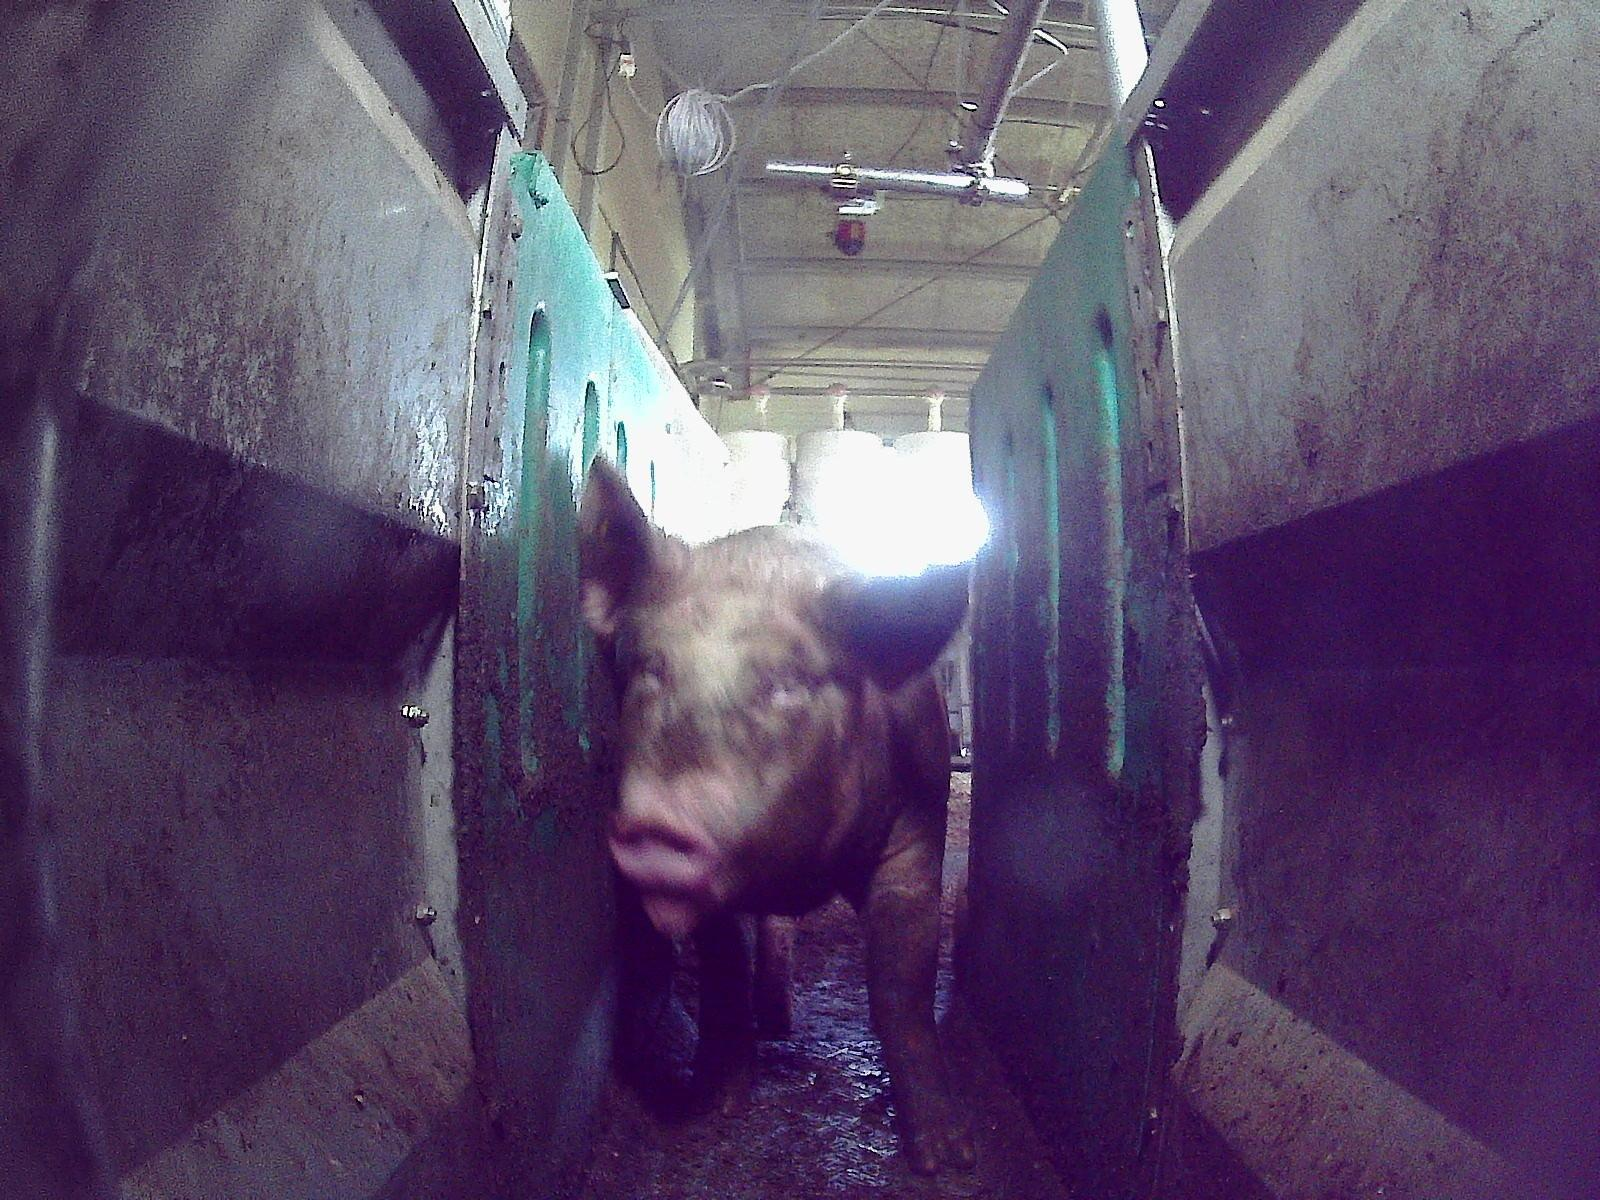Face: (601, 567, 876, 934)
